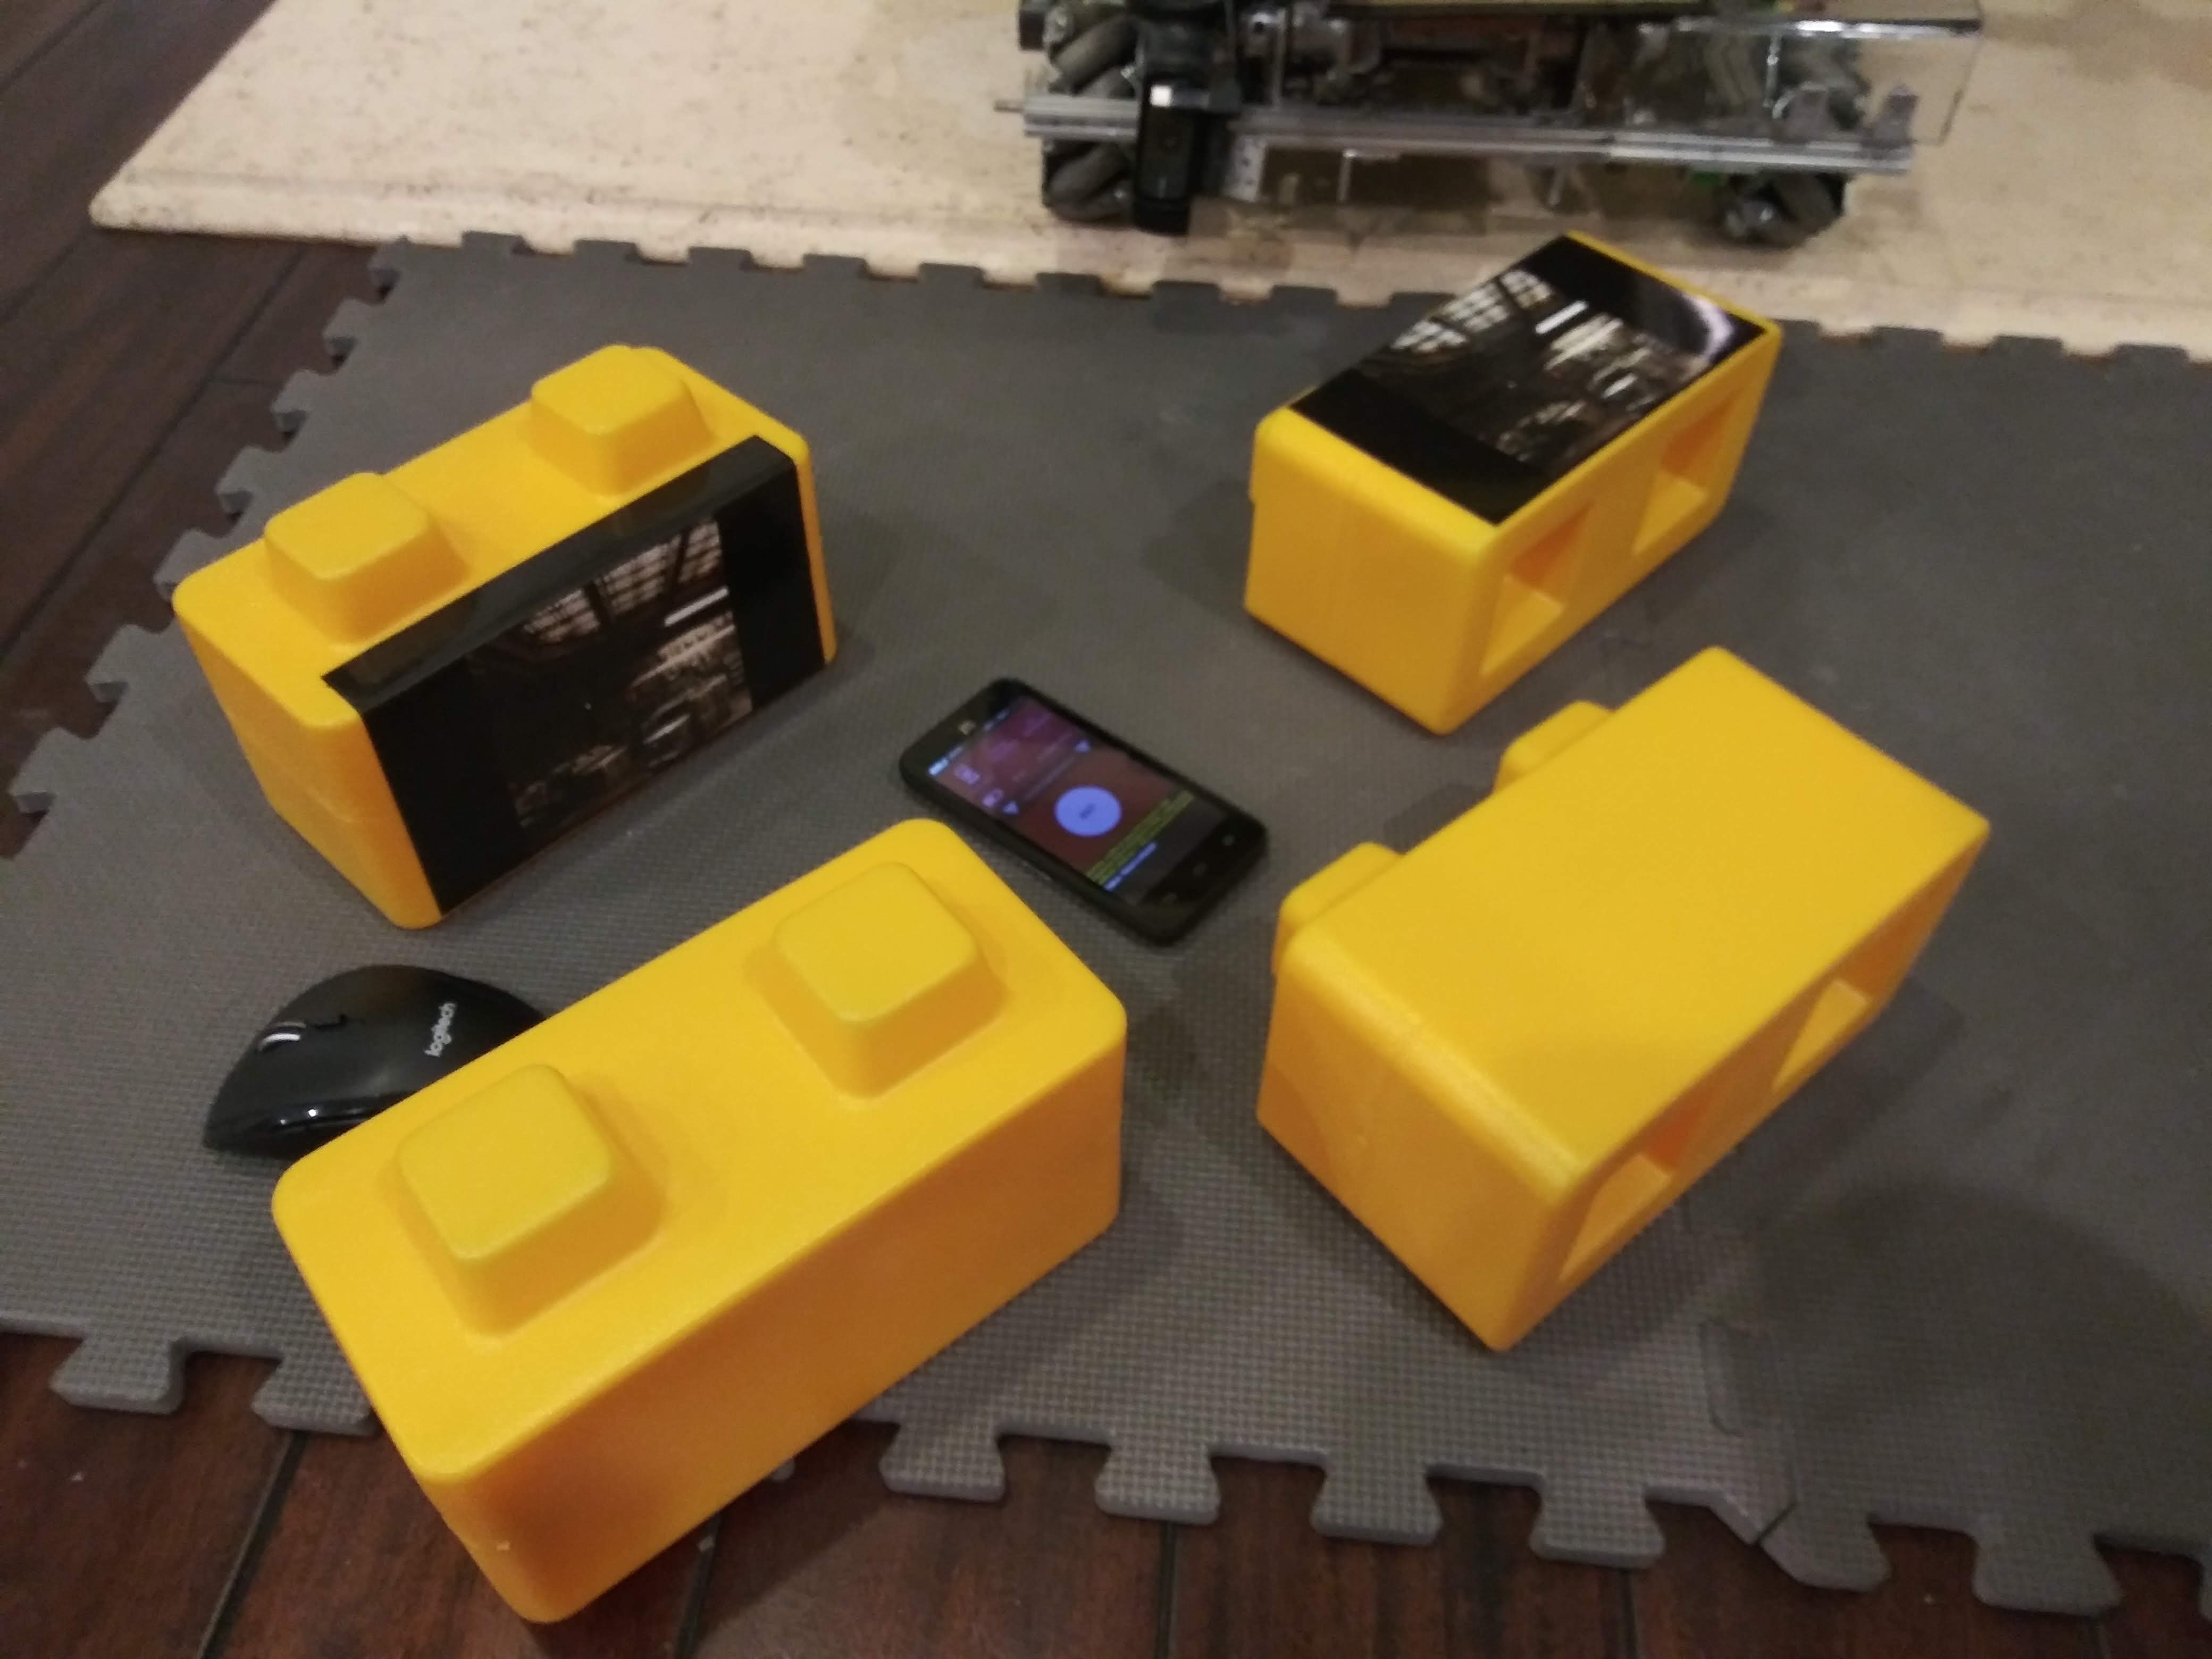skystone: (134, 457, 843, 852), (1235, 234, 1775, 638)
stone: (376, 897, 1139, 1467), (1294, 688, 1968, 1197)
